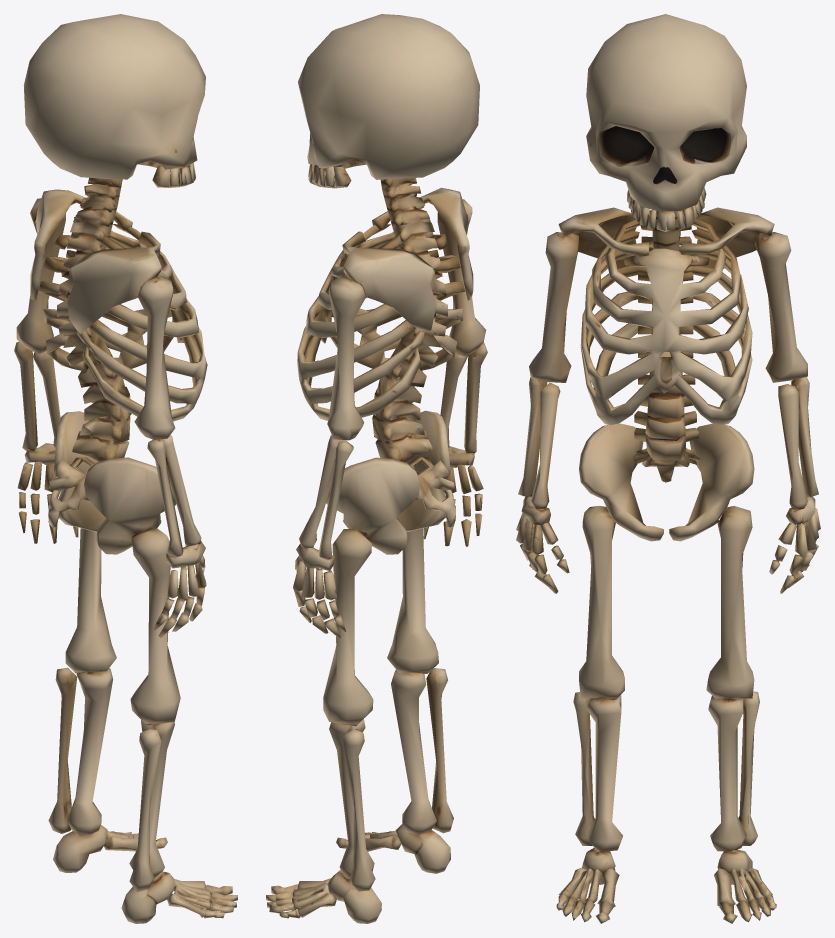
File: skeleton_3d_model.glb
The picture shows the model from 3 angles, left to right: view 1: azimuth 30°, elevation 25°; view 2: azimuth 150°, elevation 25°; view 3: azimuth 270°, elevation 25°; orthographic projection.
Parts seen in each view (by area): view 1: tripo_node_14c43c25-bd6d-4e7d-b843-d004f2b3c460; view 2: tripo_node_14c43c25-bd6d-4e7d-b843-d004f2b3c460; view 3: tripo_node_14c43c25-bd6d-4e7d-b843-d004f2b3c460.
Boxes of the visible parts, <box> form: tripo_node_14c43c25-bd6d-4e7d-b843-d004f2b3c460: <box>14,14,237,923</box>; tripo_node_14c43c25-bd6d-4e7d-b843-d004f2b3c460: <box>266,14,487,923</box>; tripo_node_14c43c25-bd6d-4e7d-b843-d004f2b3c460: <box>516,14,820,923</box>.
Size of the model in its own units: 0.1973 by 0.998 by 0.3223.
Materials: 1 (1 with a texture image).
